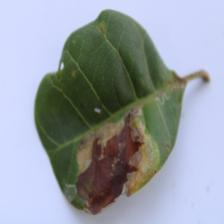leaf miner: (33, 8, 210, 215)
